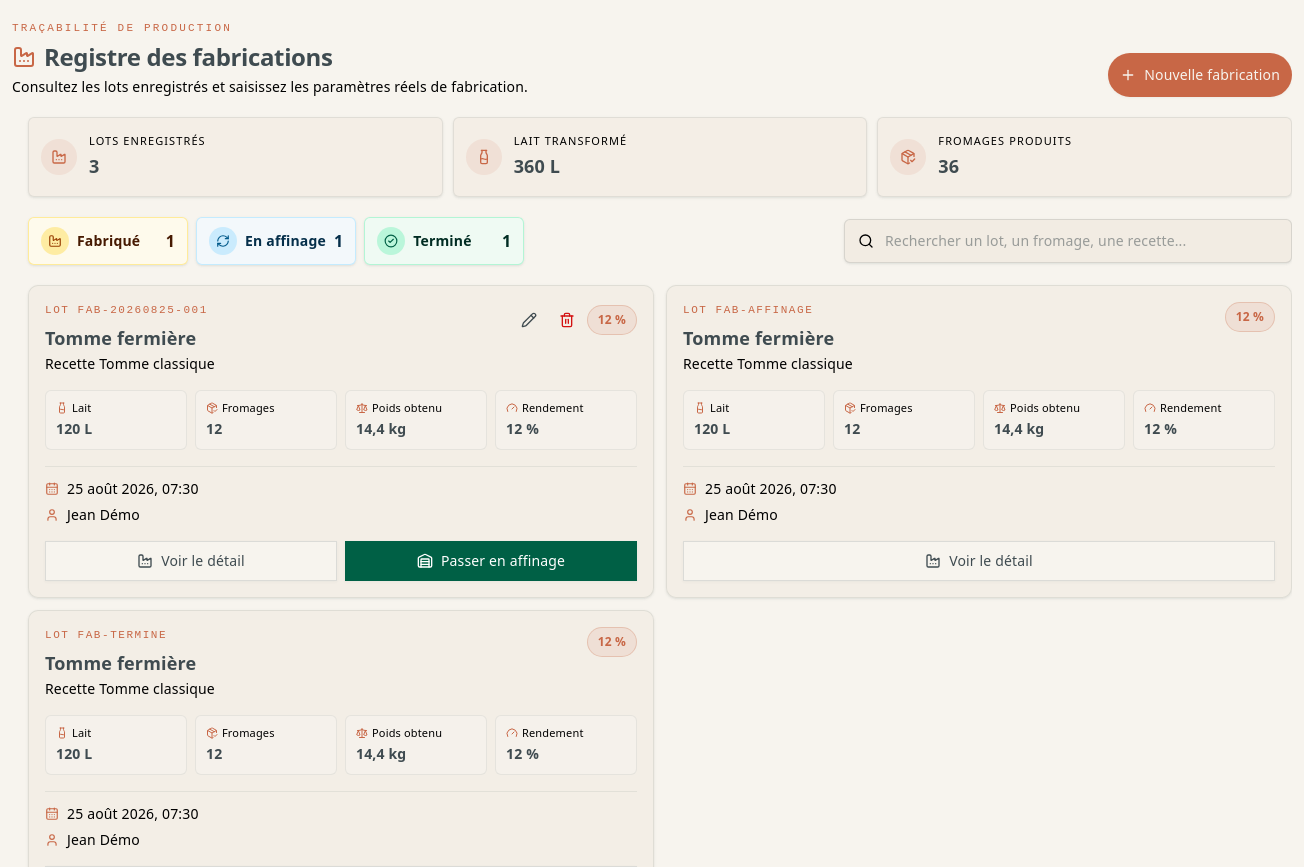
registre des fabrications › filtre les fabrications par avancement avec les trois cartes
The image size is (1304, 867).
Click the button "En affinage 1".
click(276, 240)  # box [196,216,356,264]
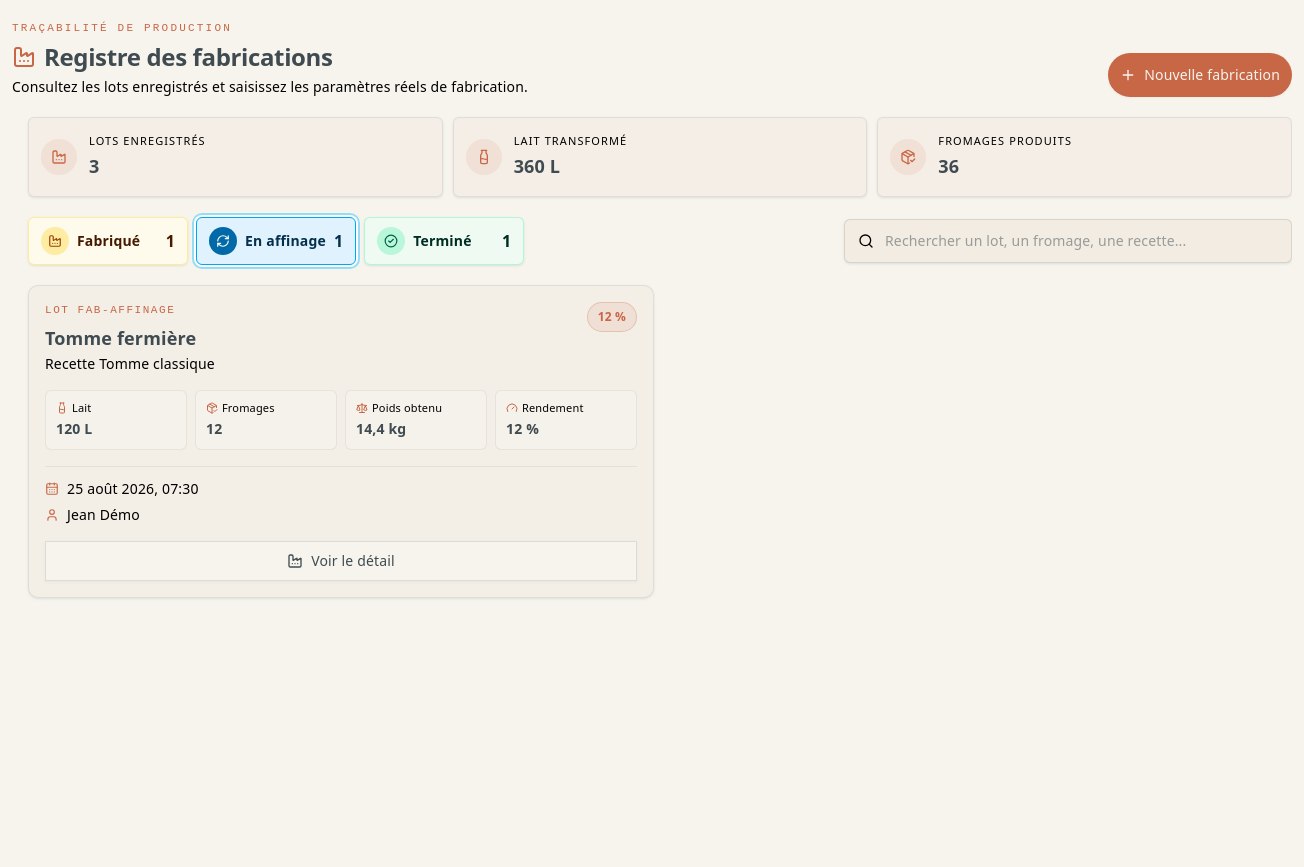
Expected: the text "Lot FAB-AFFINAGE" is shown, [45,304,175,316]
Now the text "Lot FAB-TERMINE" is gone
Click the button "Terminé 1".
click(444, 240)  # box [364,216,524,264]
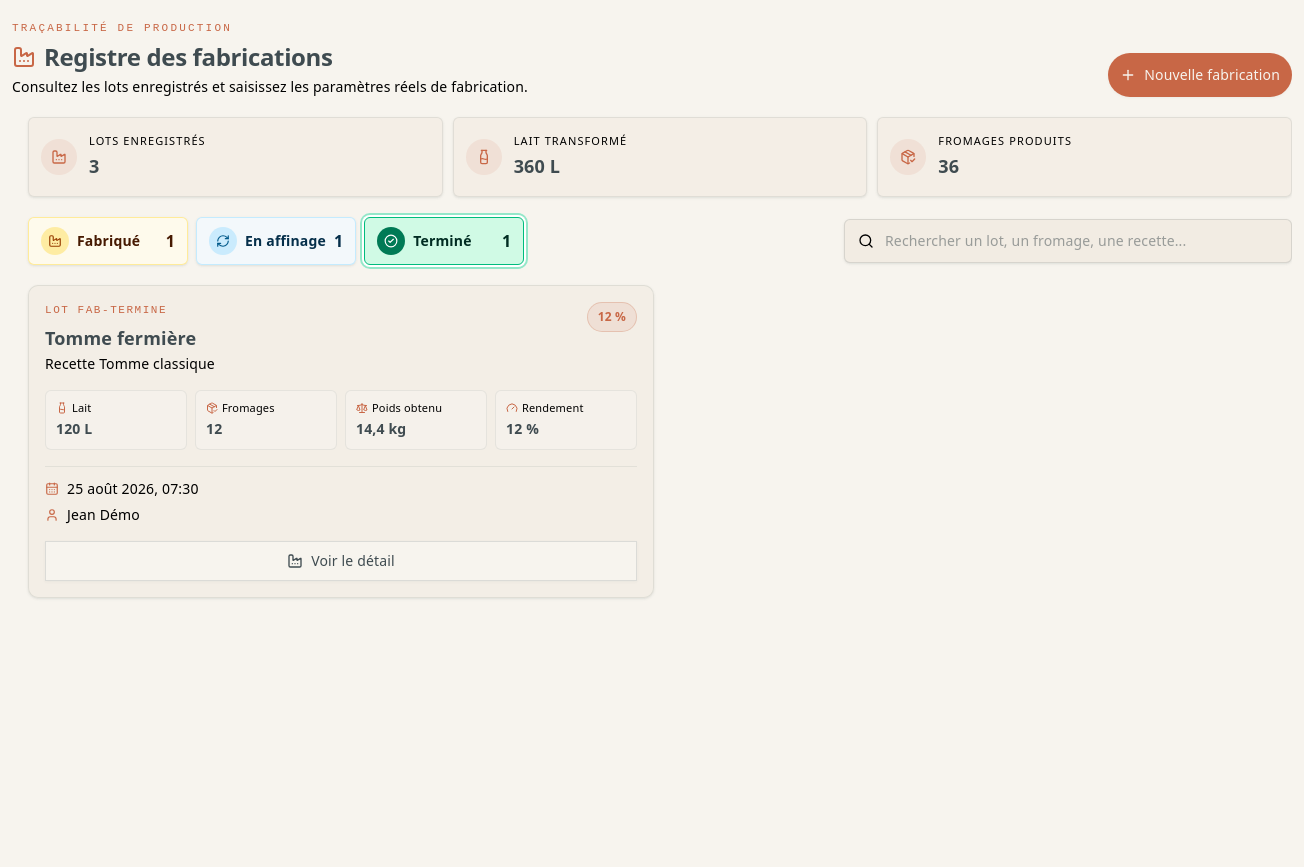
Now the text "Lot FAB-TERMINE" is shown, box [45,304,167,316]
Now the text "Lot FAB-AFFINAGE" is gone
Click the button "Terminé 1".
click(444, 240)  # box [364,216,524,264]
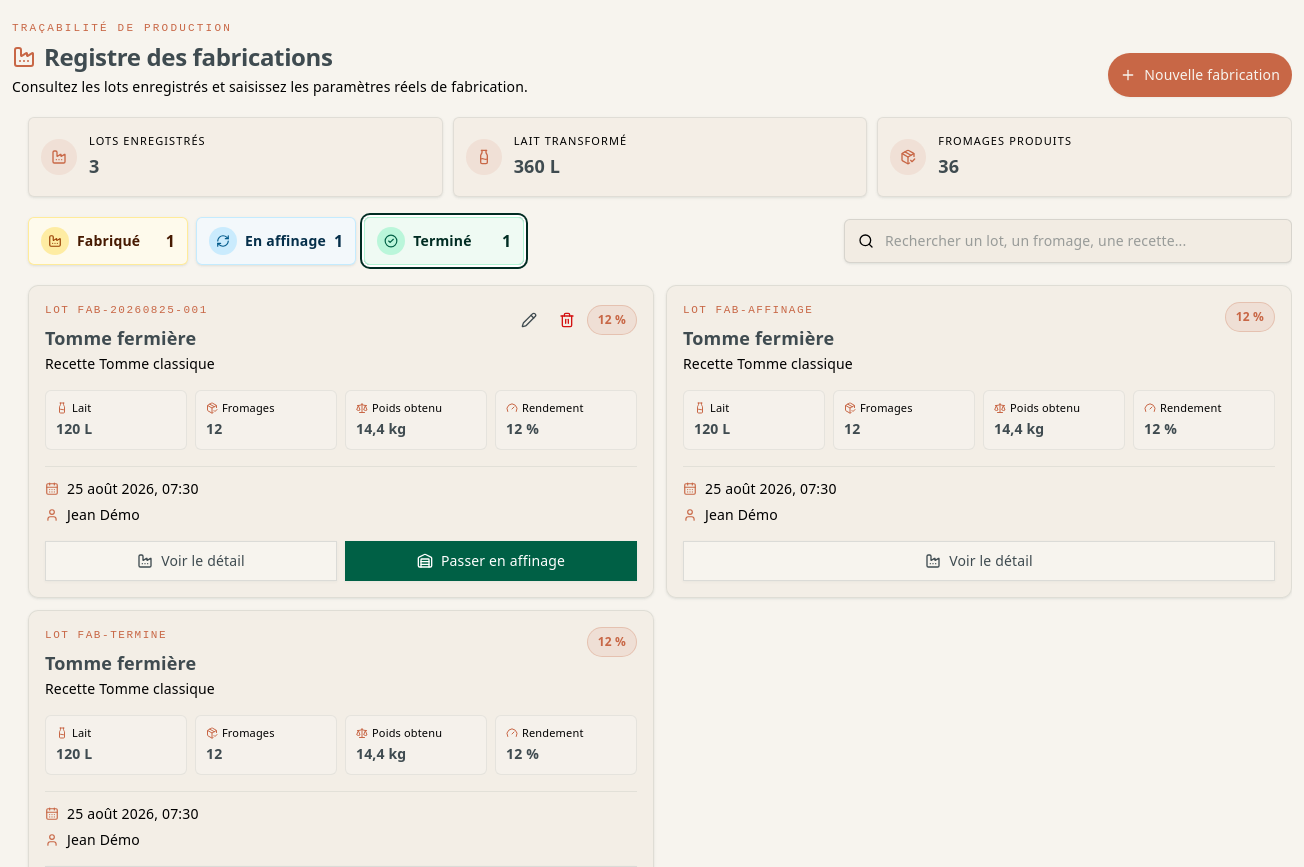
Now the text "Lot FAB-AFFINAGE" is shown, box [683,304,813,316]
